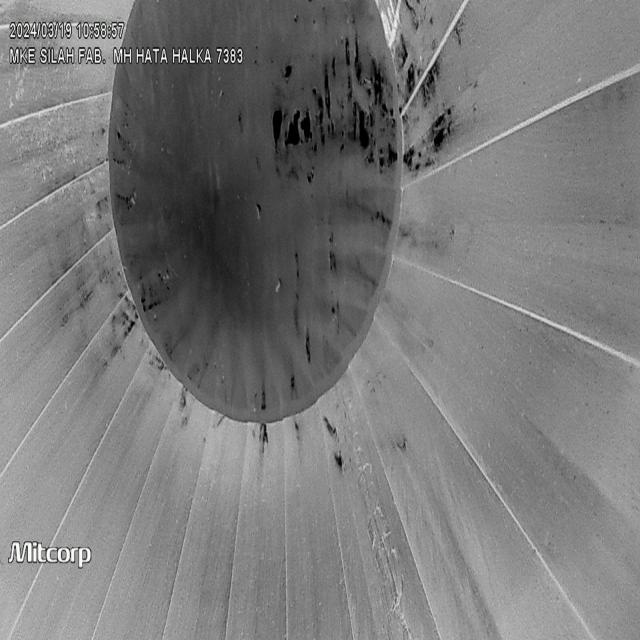hata_8.1: (345, 486, 431, 640)
